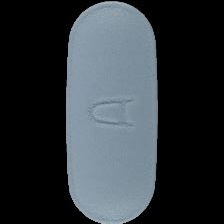16714-612: (0, 0, 224, 224)
